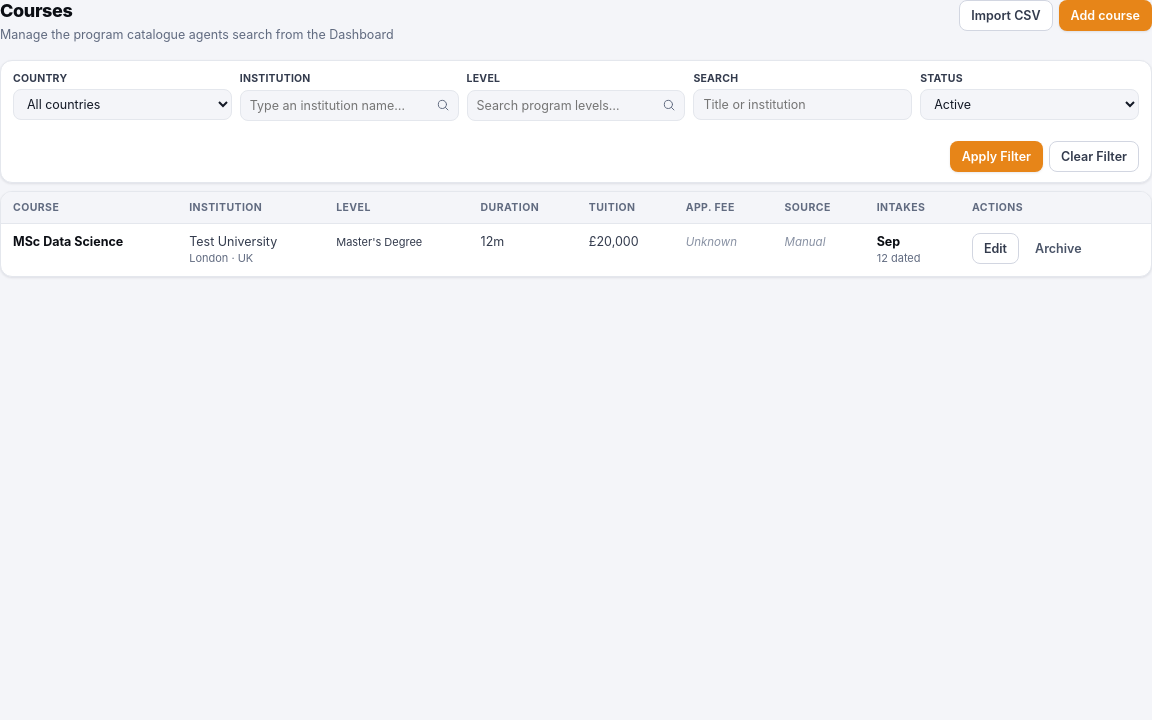
AdminCourses — the intake set a save sends › leaves the other fields seeded from the list row while it loads
The image size is (1152, 720).
Expected: the text "MSc Data Science" is shown, [13,234,123,249]
Click the button "Edit" at (996, 249), box [972,233,1019,264]
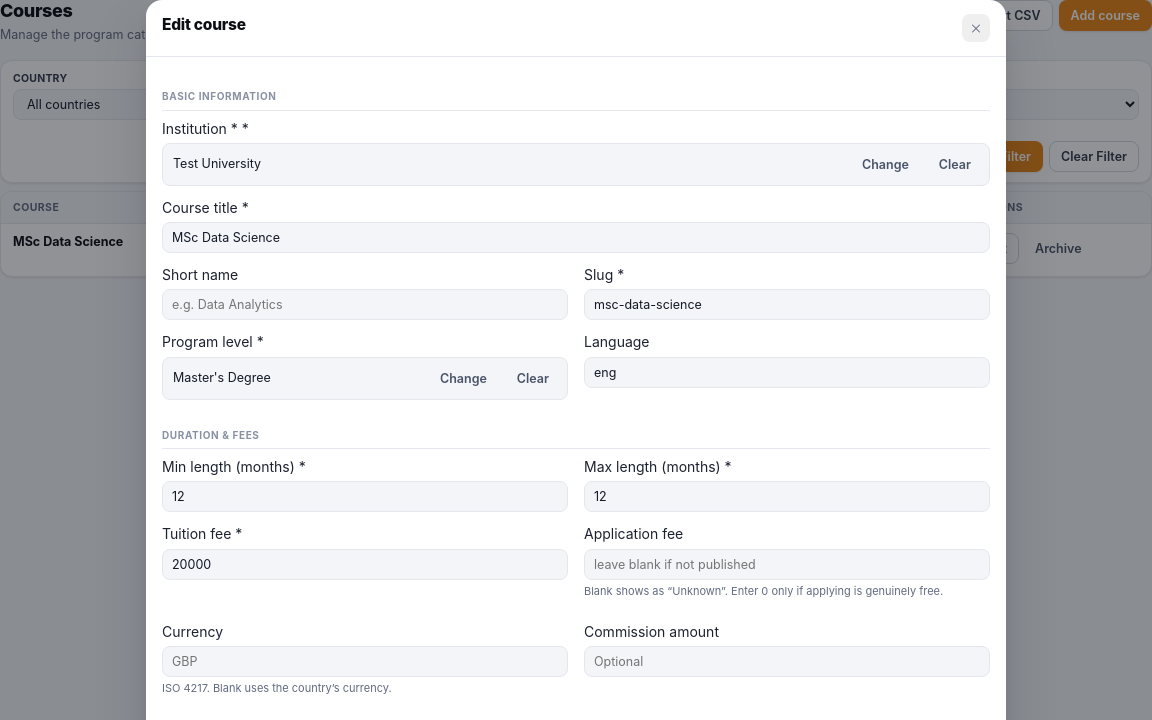
Now the field showing "MSc Data Science" is shown, box [162,222,990,253]
